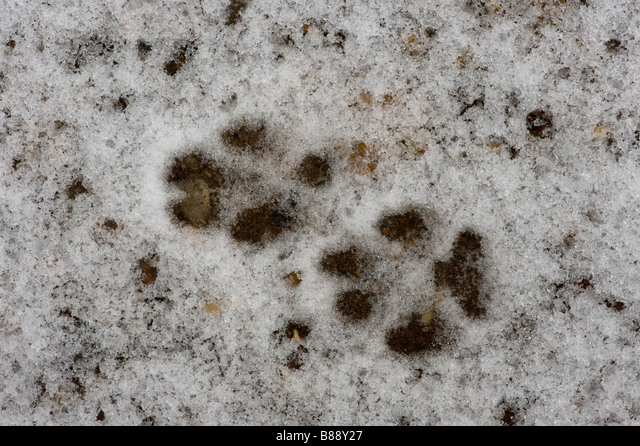fox: (321, 207, 492, 352), (160, 111, 332, 245)
